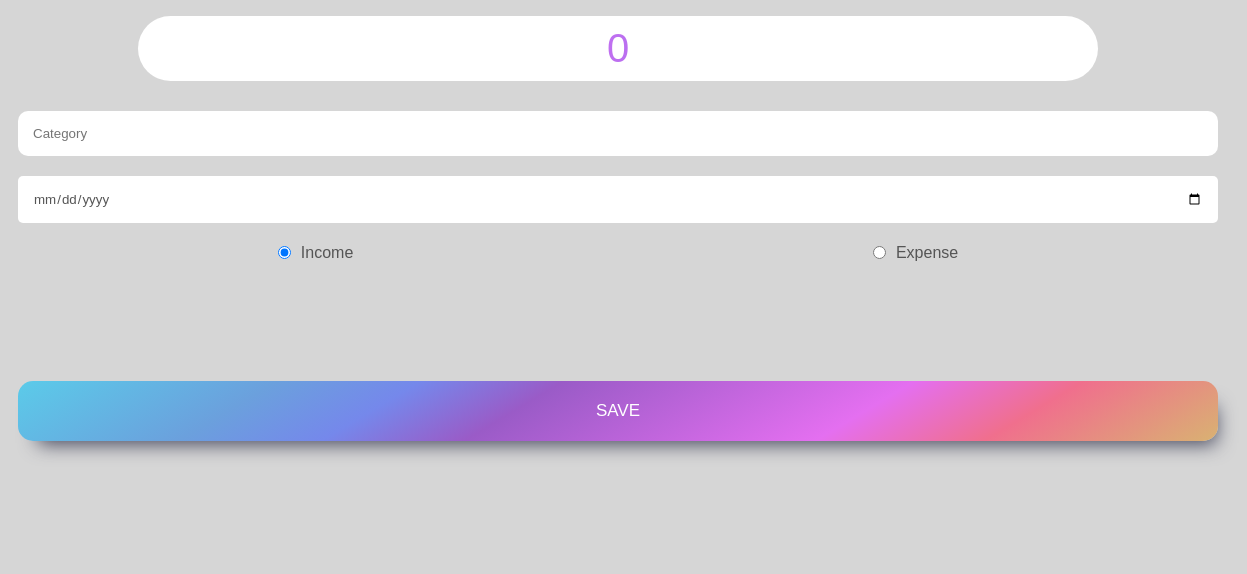
Test case: AddExpenseForm tests - invalid › shows error message in value label when no value
Click the button at (618, 411), box [18,381,1218,441]
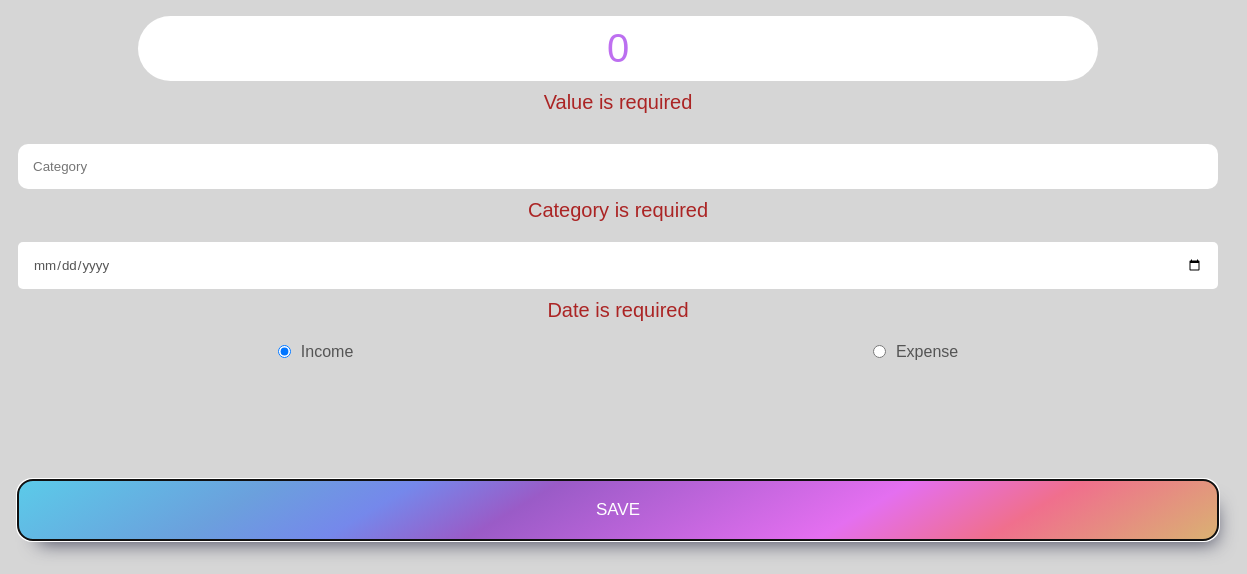
Result: the text "Value is required" is shown at [544,91,692,113]
